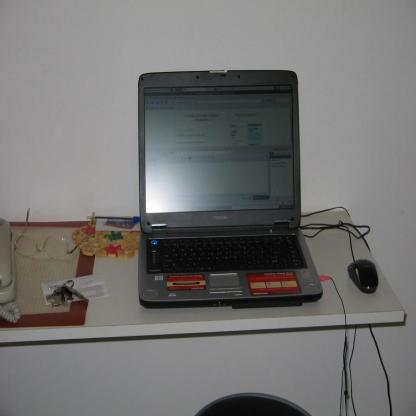board: (132, 79, 327, 309)
